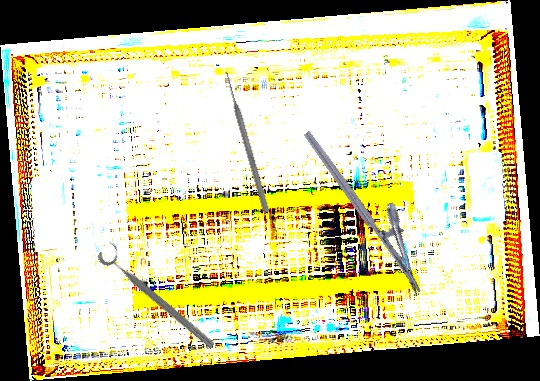Fixation Ring: (95, 239, 223, 353)
Needle Holder: (302, 114, 445, 296)
Pusher: (221, 69, 272, 214)
